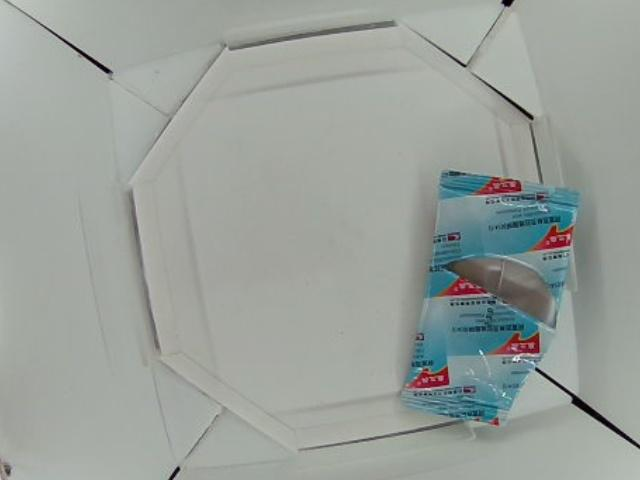Medicine: (401, 168, 580, 429)
